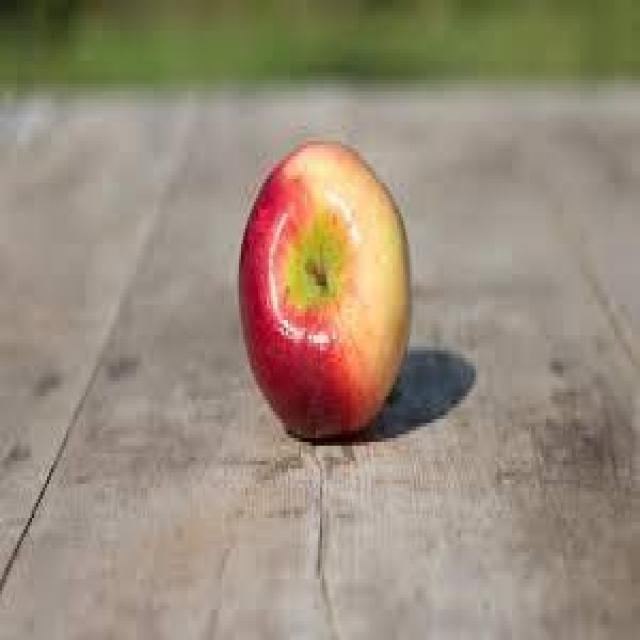maca: (237, 137, 412, 442)
